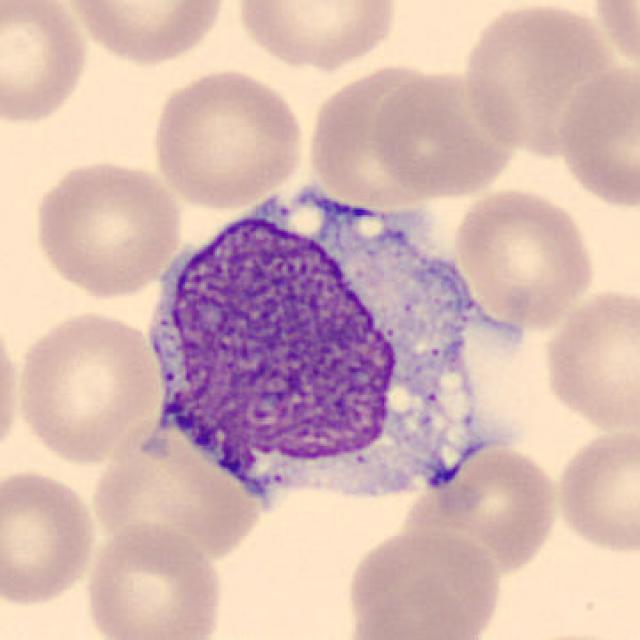Monocyte: (130, 174, 514, 522)
RBC: (457, 0, 622, 157), (13, 307, 164, 467), (148, 65, 310, 210), (28, 155, 186, 300), (99, 428, 261, 567), (304, 58, 450, 212), (450, 185, 599, 330), (366, 67, 523, 199), (341, 524, 505, 638), (428, 439, 564, 573), (81, 518, 228, 640), (539, 282, 638, 436), (0, 463, 101, 610), (553, 62, 638, 212), (231, 0, 403, 72), (0, 0, 92, 128), (61, 0, 231, 69), (551, 425, 638, 559), (0, 309, 27, 474), (586, 1, 640, 77), (510, 627, 634, 640)
